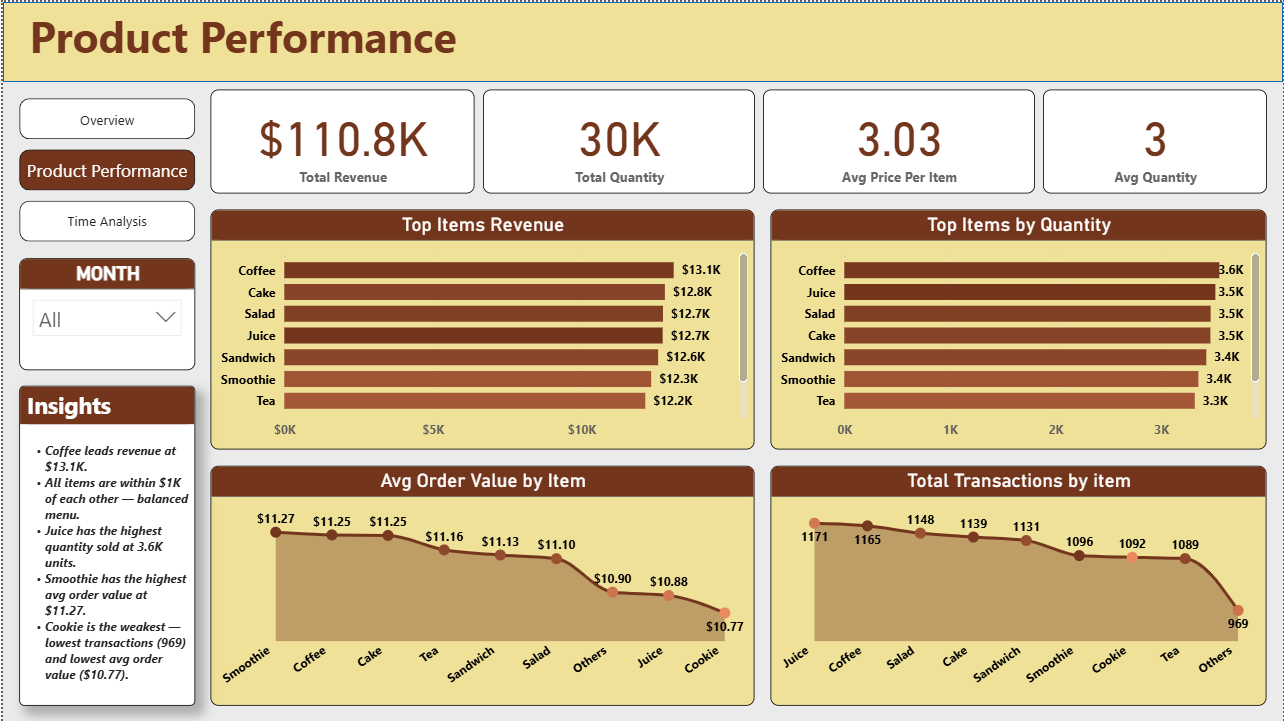

Layout of this report page (visuals, bound fields, positions):
{"tool":"powerbi","page":{"name":"Product Performance analysis","canvas":[1280,720],"ordinal":1},"visuals":[{"type":"clusteredBarChart","title":"Top 10 Products by Revenue","fields":{"Category":["Transactions.product_detail"],"Y":["Transactions.Total Revenue"]},"box":[208,96,560,272],"z":0},{"type":"clusteredColumnChart","title":"Lowest Revenue Products","fields":{"Category":["Transactions.product_detail"],"Y":["Transactions.Total Revenue"]},"box":[784,96,480,272],"z":1000},{"type":"clusteredBarChart","title":"Top 10 Products by orders","fields":{"Category":["Transactions.product_detail"],"Y":["Transactions.Total Transactions"]},"box":[672,384,592,304],"z":2000}]}

Visuals, with their boxes in screenshot pixels (x1, y1, x2, y2), scaled from the page's 1280x720 canvas onto the 1284x721 screenshot:
"Top 10 Products by Revenue" clusteredBarChart: region(209, 96, 770, 369)
"Lowest Revenue Products" clusteredColumnChart: region(786, 96, 1268, 369)
"Top 10 Products by orders" clusteredBarChart: region(674, 385, 1268, 689)
